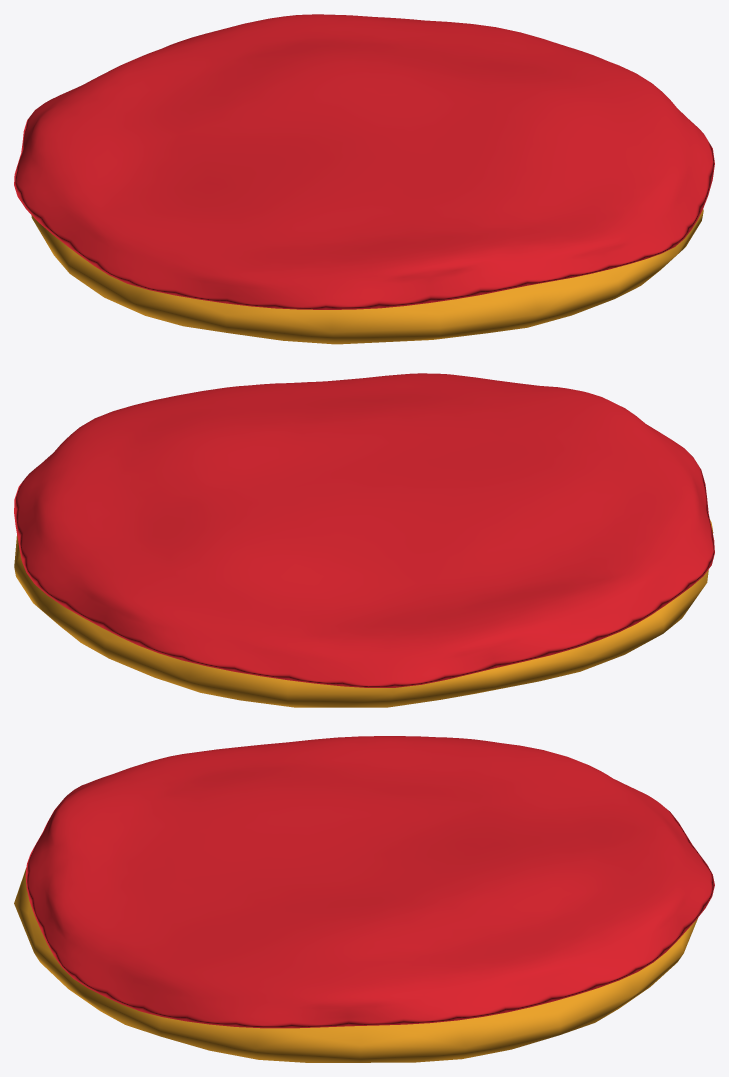
Rendered from Pizza1.fbx.
3 renders of one model, top to bottom at view 1: azimuth 30°, elevation 25°; view 2: azimuth 150°, elevation 25°; view 3: azimuth 270°, elevation 25°, orthographic. The views are drawn at different scales.
Parts seen in each view (by area): view 1: Cheese, Base; view 2: Cheese, Base; view 3: Cheese, Base.
Boxes of the visible parts, x1=… form: Cheese: x1=14, y1=14, x2=714, y2=309; Base: x1=31, y1=209, x2=703, y2=344; Cheese: x1=14, y1=373, x2=714, y2=687; Base: x1=14, y1=520, x2=713, y2=707; Cheese: x1=25, y1=736, x2=714, y2=1028; Base: x1=14, y1=868, x2=697, y2=1062.
Bounding box in the file's own units: 185 × 36.94 × 189.
